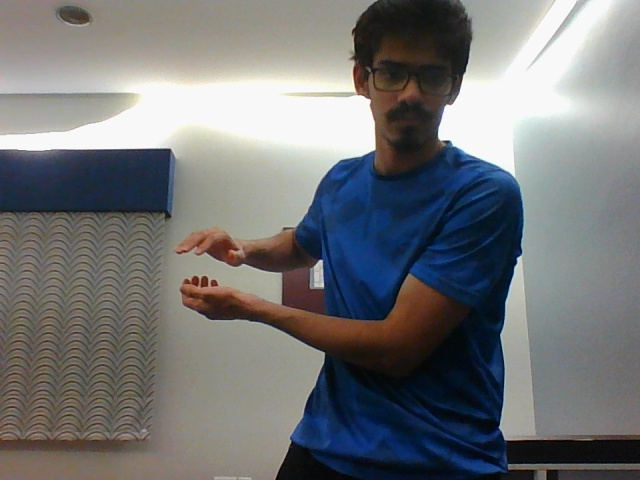charge: (174, 217, 264, 333)
